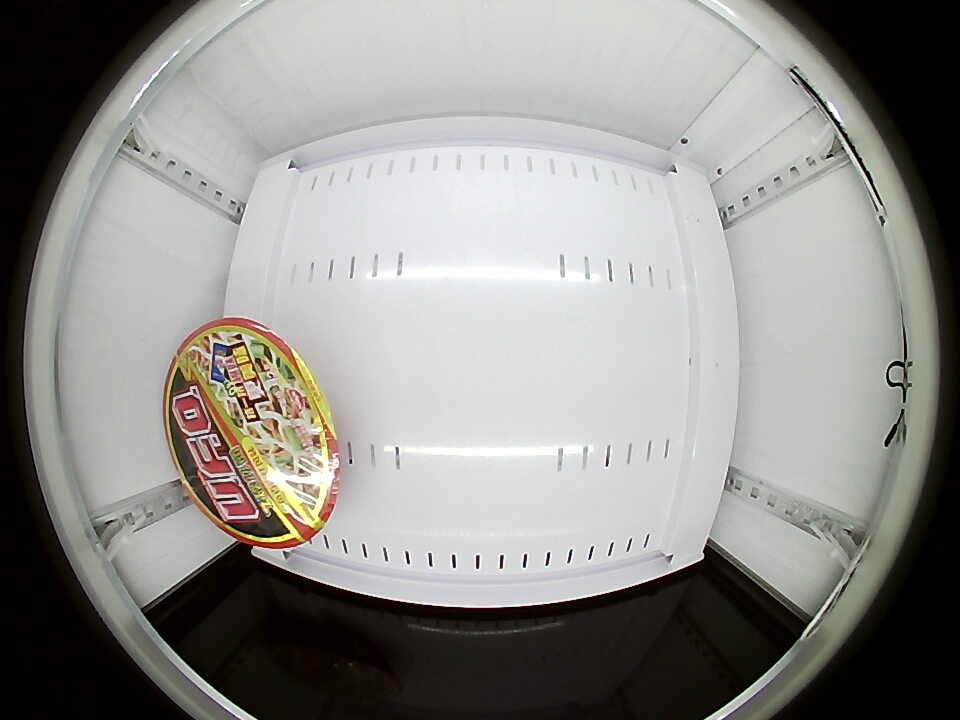ufo2: (165, 317, 340, 551)
